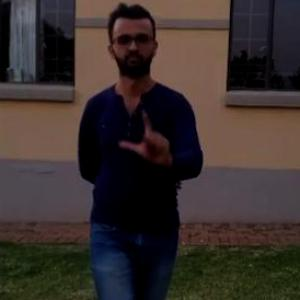land_hand: (114, 102, 183, 164)
